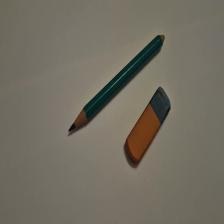eraser: (126, 87, 172, 165)
pencil: (69, 35, 166, 133)
